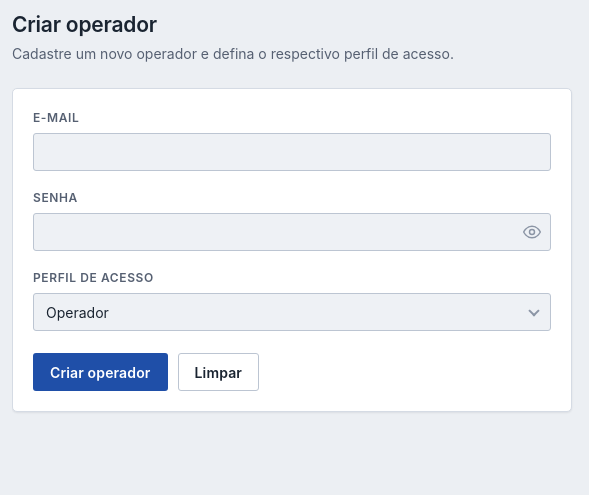
CreateOperatorPage › esvazia os campos, volta o perfil para Operador e some com o erro ao acionar Limpar
In the field labelled "E-mail": (292, 152) [33,133,551,171], type "nova@example.test"
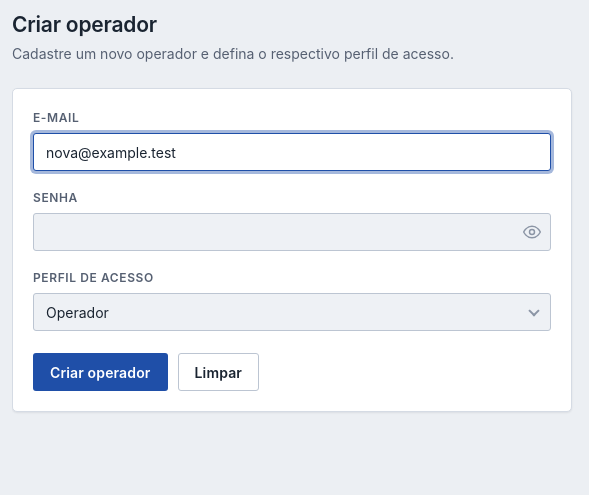
In the password field labelled "Senha": (292, 232) [33,213,551,251], type "senha-secreta"
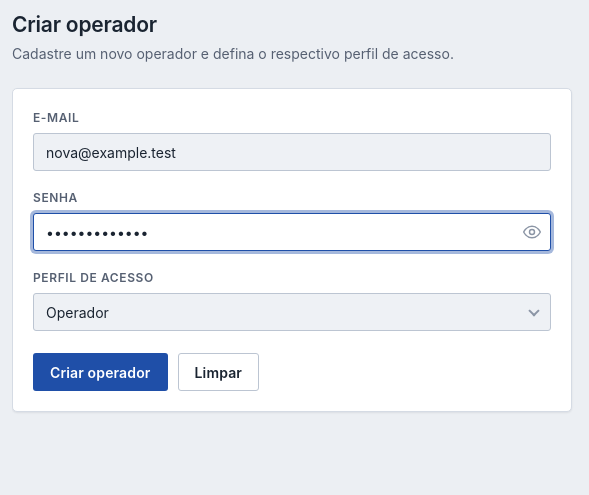
Select "Administrador" in the dropdown labelled "Perfil de acesso": (292, 312) [33,293,551,331]
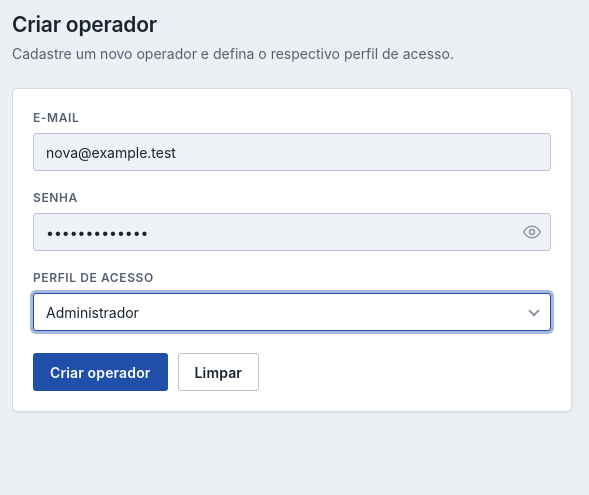
Click the button "Criar operador": (100, 372) [33,353,168,391]
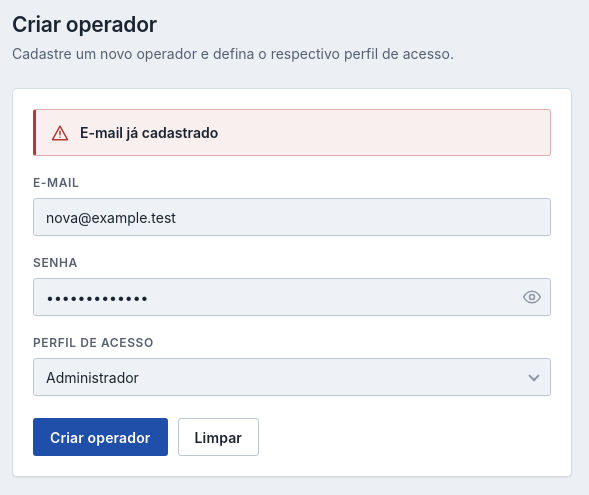
Expected: the text "E-mail já cadastrado" is shown, [80,122,218,143]
Click the button "Limpar": (218, 437) [178,418,259,456]
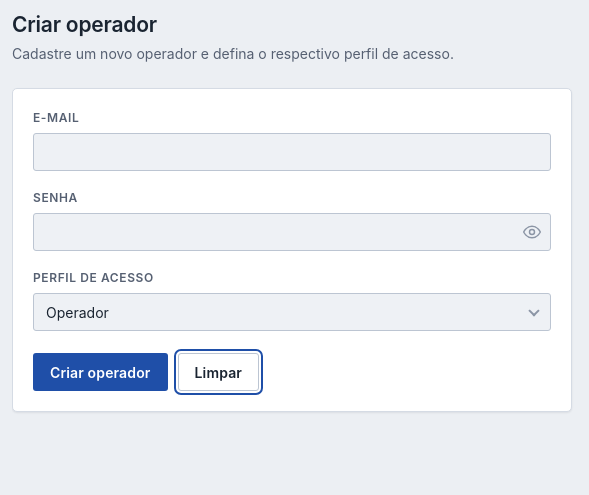
Expected: the field labelled "E-mail" is empty, [33,133,551,171]
Expected: the password field labelled "Senha" is empty, [33,213,551,251]
Expected: the message "E-mail já cadastrado" is gone
